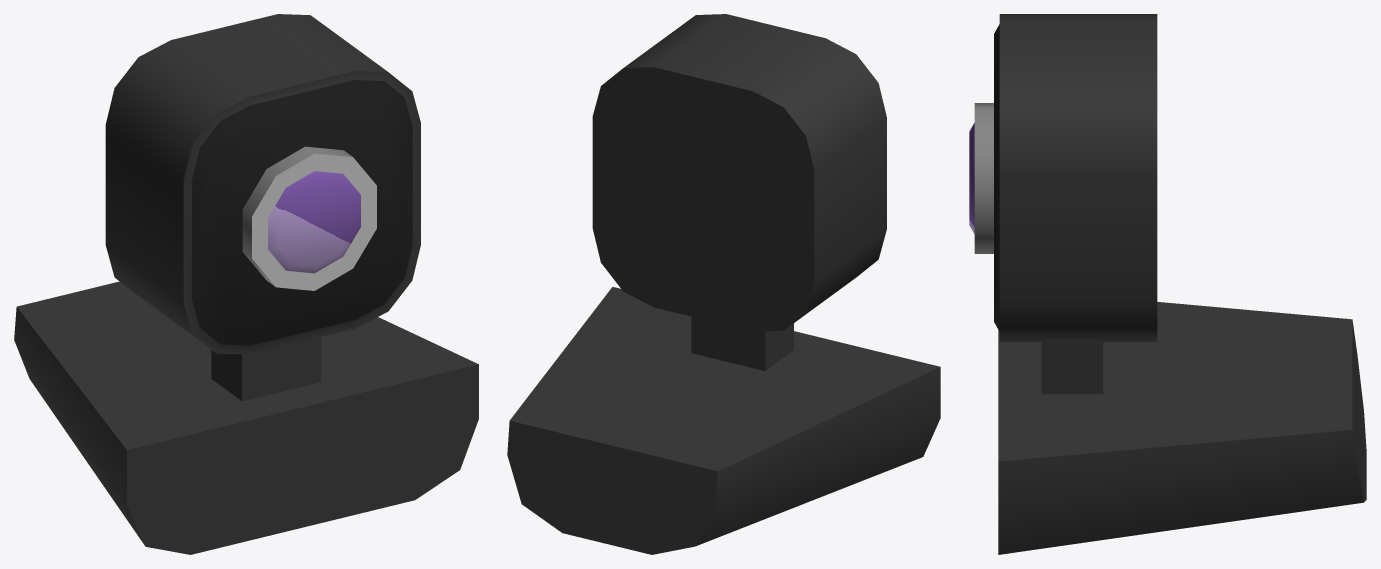
The model's file is webcam_2.glb.
The picture shows the model from 3 angles, left to right: view 1: azimuth 30°, elevation 25°; view 2: azimuth 150°, elevation 25°; view 3: azimuth 270°, elevation 25°; orthographic projection. The views are drawn at different scales.
Visible parts, largest first — view 1: Web Cam 3; view 2: Web Cam 3; view 3: Web Cam 3.
Boxes of the visible parts, x1=… form: Web Cam 3: x1=14, y1=14, x2=478, y2=554; Web Cam 3: x1=507, y1=14, x2=940, y2=554; Web Cam 3: x1=969, y1=14, x2=1366, y2=554.
Bounding box in the file's own units: 0.0479 × 0.0577 × 0.0462.
Materials: 1 (1 with a texture image).
